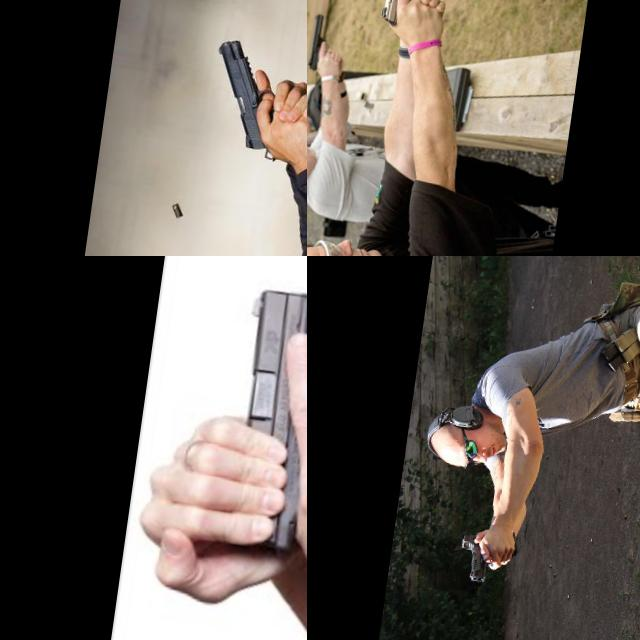handgun: (211, 278, 307, 569), (203, 35, 285, 152), (378, 0, 427, 57), (461, 531, 495, 586)
